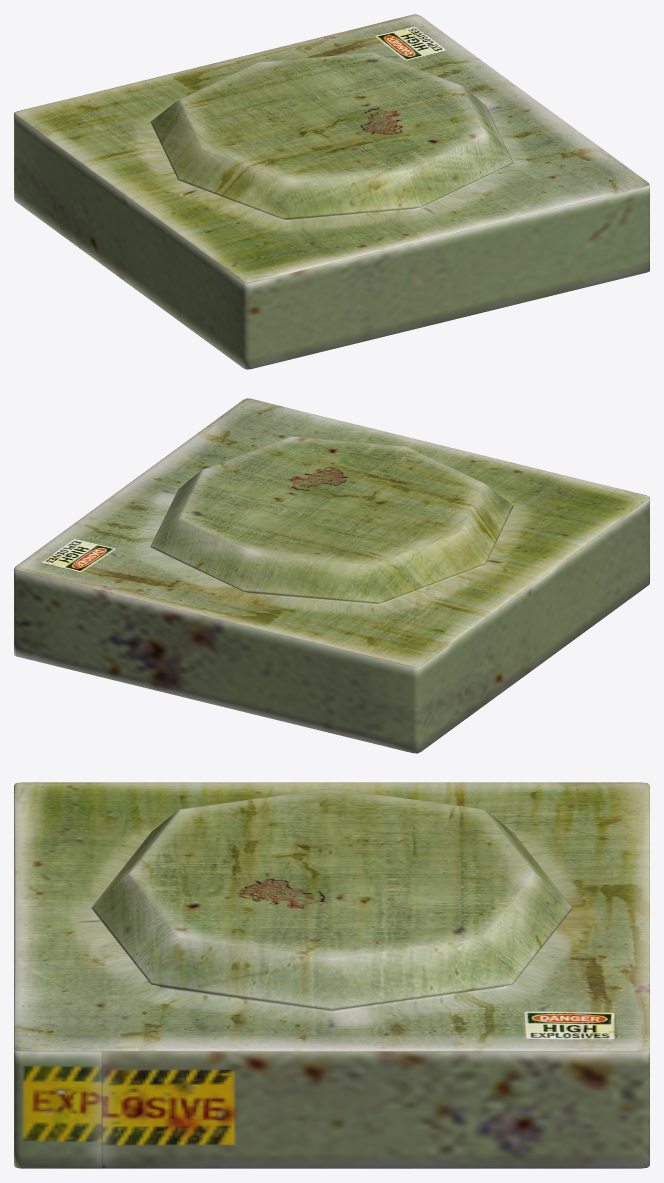
The model's file is Anti_Tank_Mine.fbx.
3 renders of one model, top to bottom at view 1: azimuth 30°, elevation 25°; view 2: azimuth 150°, elevation 25°; view 3: azimuth 270°, elevation 25°, orthographic. The views are drawn at different scales.
Parts seen in each view (by area): view 1: pCube1; view 2: pCube1; view 3: pCube1.
Boxes of the visible parts, left/top/right/bottom form: pCube1: left=14, top=14, right=649, bottom=369; pCube1: left=14, top=398, right=649, bottom=753; pCube1: left=14, top=782, right=649, bottom=1168.
Size of the model in its own units: 6.3 by 1.77 by 6.3.
Materials: 1 (1 with a texture image).
